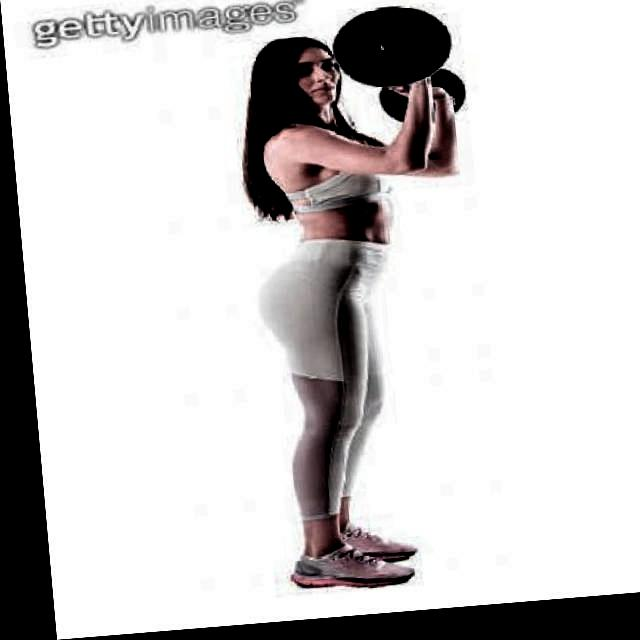barbell: (325, 1, 457, 103)
